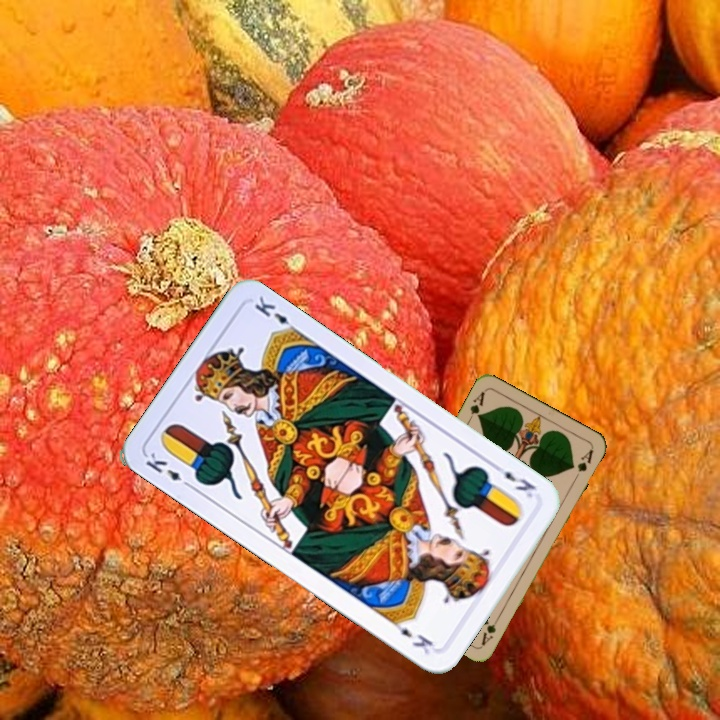EK: (141, 448, 196, 492), (489, 460, 539, 501)
GA: (477, 610, 503, 648), (463, 387, 487, 425)
